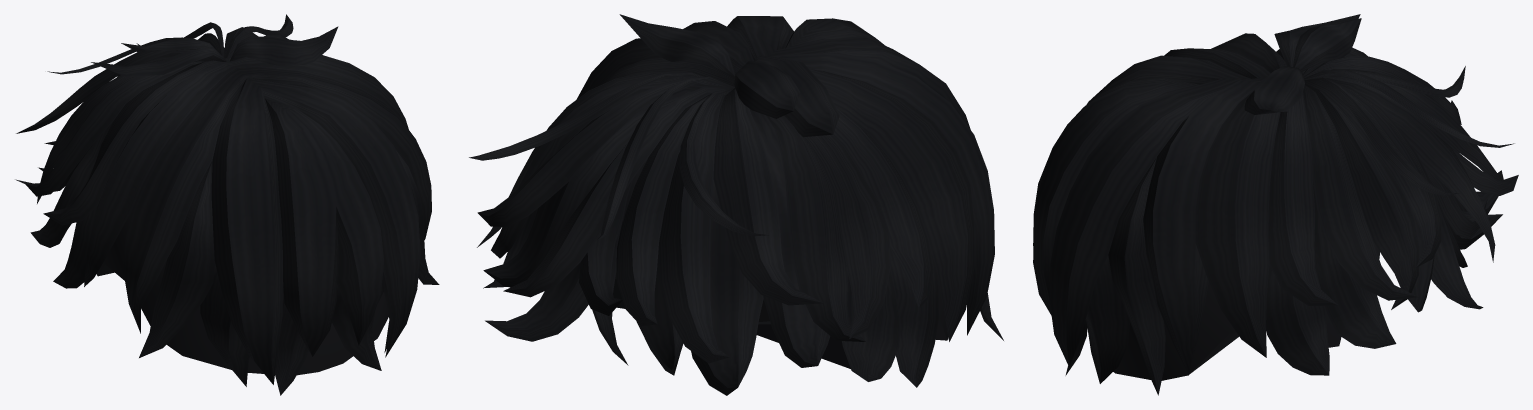
The picture shows the model from 3 angles, left to right: view 1: azimuth 30°, elevation 25°; view 2: azimuth 150°, elevation 25°; view 3: azimuth 270°, elevation 25°; orthographic projection. The views are drawn at different scales.
Visible parts, largest first — view 1: geometry_0; view 2: geometry_0; view 3: geometry_0.
Part boxes in pixels (x1,y1,x2,y2): geometry_0: [15, 14, 439, 395]; geometry_0: [469, 14, 1003, 395]; geometry_0: [1033, 14, 1518, 395].
Bounding box in the file's own units: 1.54 × 1.22 × 1.78.
Materials: 1 (1 with a texture image).
